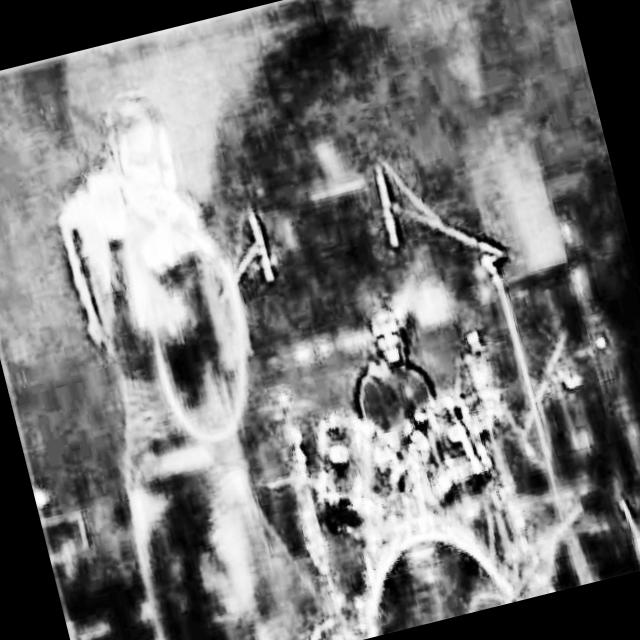Person: (25, 77, 320, 640)
